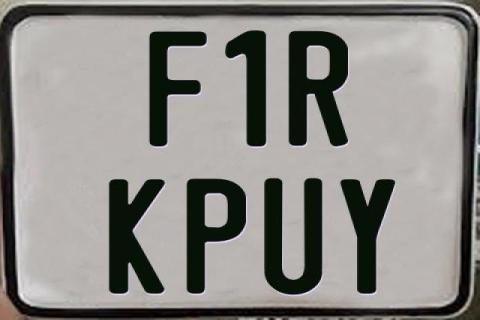0: (223, 31, 268, 147)
F: (148, 30, 208, 148)
K: (109, 178, 165, 296)
P: (186, 178, 251, 294)
R: (289, 30, 353, 148)
U: (261, 178, 322, 298)
Y: (339, 177, 395, 293)
